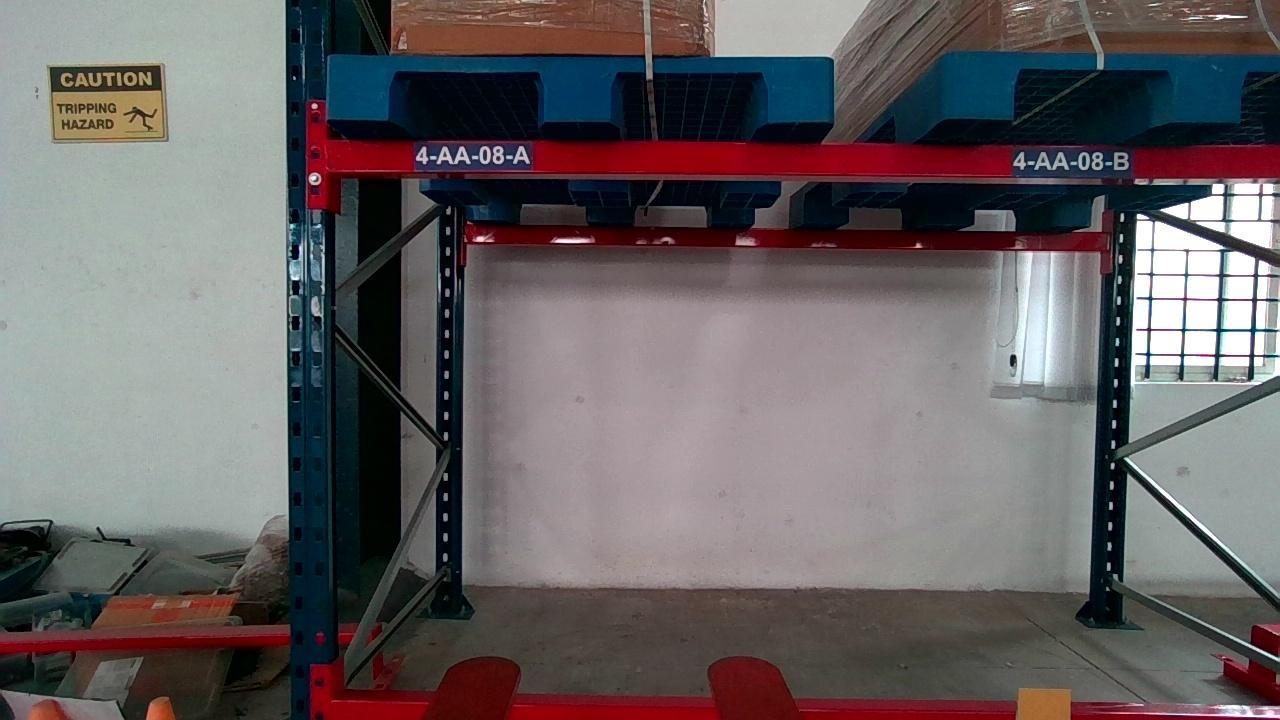h_rack: (325, 135, 1279, 178)
small_pallet: (328, 52, 832, 126), (945, 51, 1280, 122)
